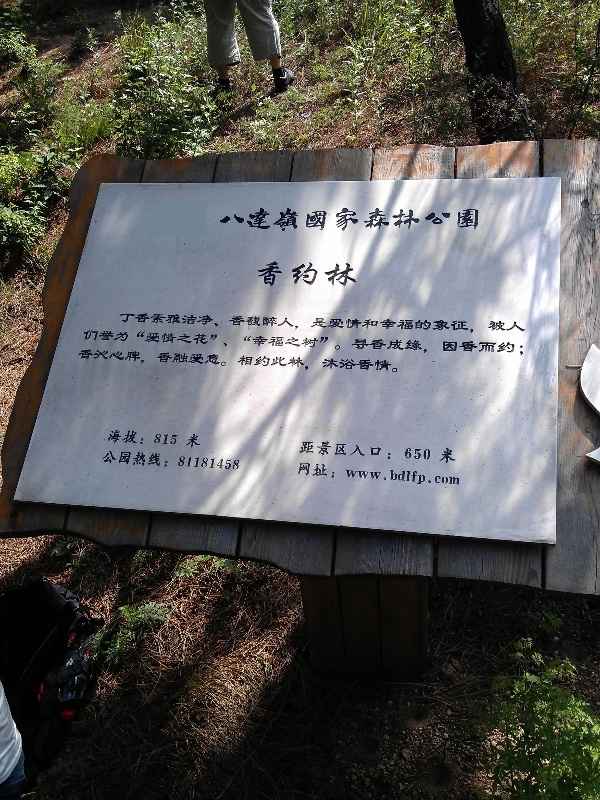text: (513, 328, 529, 357), (97, 328, 112, 357), (113, 328, 128, 357), (129, 328, 144, 357), (145, 328, 160, 357), (161, 328, 176, 357), (177, 328, 192, 357), (193, 328, 208, 357), (209, 328, 224, 357), (225, 328, 240, 357), (241, 328, 256, 357), (257, 328, 272, 357), (273, 328, 288, 357), (289, 328, 304, 357), (305, 328, 320, 357), (321, 328, 336, 357), (337, 328, 352, 357), (353, 328, 368, 357), (369, 328, 384, 357), (385, 328, 400, 357), (401, 328, 416, 357), (417, 328, 432, 357), (433, 328, 448, 357), (449, 328, 464, 357), (465, 328, 480, 357), (481, 328, 496, 357), (497, 328, 512, 357), (273, 260, 288, 288), (289, 260, 304, 288), (305, 260, 320, 288), (321, 260, 336, 288), (337, 260, 352, 288), (465, 206, 481, 232), (81, 348, 96, 375), (97, 348, 112, 375), (113, 348, 128, 375), (129, 348, 144, 375), (145, 348, 160, 375), (161, 348, 176, 375), (177, 348, 192, 375), (193, 348, 208, 375), (209, 348, 224, 375), (225, 348, 240, 375), (241, 348, 256, 375), (257, 348, 272, 375), (273, 348, 288, 375), (289, 348, 304, 375), (305, 348, 320, 375), (321, 348, 336, 375), (337, 348, 352, 375), (353, 348, 368, 375), (369, 348, 384, 375), (385, 348, 400, 375), (305, 461, 320, 488), (321, 461, 336, 488), (337, 461, 352, 488), (353, 461, 368, 488), (369, 461, 384, 488), (385, 461, 400, 488), (401, 461, 416, 488), (417, 461, 432, 488), (433, 461, 448, 488), (449, 461, 464, 488), (225, 206, 240, 232), (241, 206, 256, 232), (257, 206, 272, 232), (273, 206, 288, 232), (289, 206, 304, 232), (305, 206, 320, 232), (321, 206, 336, 232), (337, 206, 352, 232), (353, 206, 368, 232), (369, 206, 384, 232), (385, 206, 400, 232), (401, 206, 416, 232), (417, 206, 432, 232), (433, 206, 448, 232), (449, 206, 464, 232), (259, 260, 272, 288), (129, 312, 144, 336), (145, 312, 160, 336), (161, 312, 176, 336), (177, 312, 192, 336), (193, 312, 208, 336), (209, 312, 224, 336), (225, 312, 240, 336), (241, 312, 256, 336), (257, 312, 272, 336), (273, 312, 288, 336), (289, 312, 304, 336), (305, 312, 320, 336), (321, 312, 336, 336), (337, 312, 352, 336), (353, 312, 368, 336), (369, 312, 384, 336), (385, 312, 400, 336), (401, 312, 416, 336), (417, 312, 432, 336), (433, 312, 448, 336), (449, 312, 464, 336), (465, 312, 480, 336), (481, 312, 496, 336), (497, 312, 512, 336), (305, 440, 320, 464), (321, 440, 336, 464), (337, 440, 352, 464), (353, 440, 368, 464), (369, 440, 384, 464), (385, 440, 400, 464), (401, 440, 416, 464), (417, 440, 432, 464), (433, 440, 448, 464), (84, 328, 96, 357), (113, 448, 128, 471), (129, 448, 144, 471), (145, 448, 160, 471), (161, 448, 176, 471), (177, 448, 192, 471), (193, 448, 208, 471), (209, 448, 224, 471), (225, 448, 240, 471), (513, 312, 526, 336), (113, 428, 128, 448), (129, 428, 144, 448), (145, 428, 160, 448), (161, 428, 176, 448), (177, 428, 192, 448), (119, 312, 128, 336), (449, 440, 458, 464), (103, 448, 112, 471), (193, 428, 203, 448), (353, 260, 359, 288), (298, 461, 304, 488), (220, 206, 224, 232), (107, 428, 112, 448), (300, 440, 304, 464), (401, 348, 402, 375), (241, 448, 242, 471)
